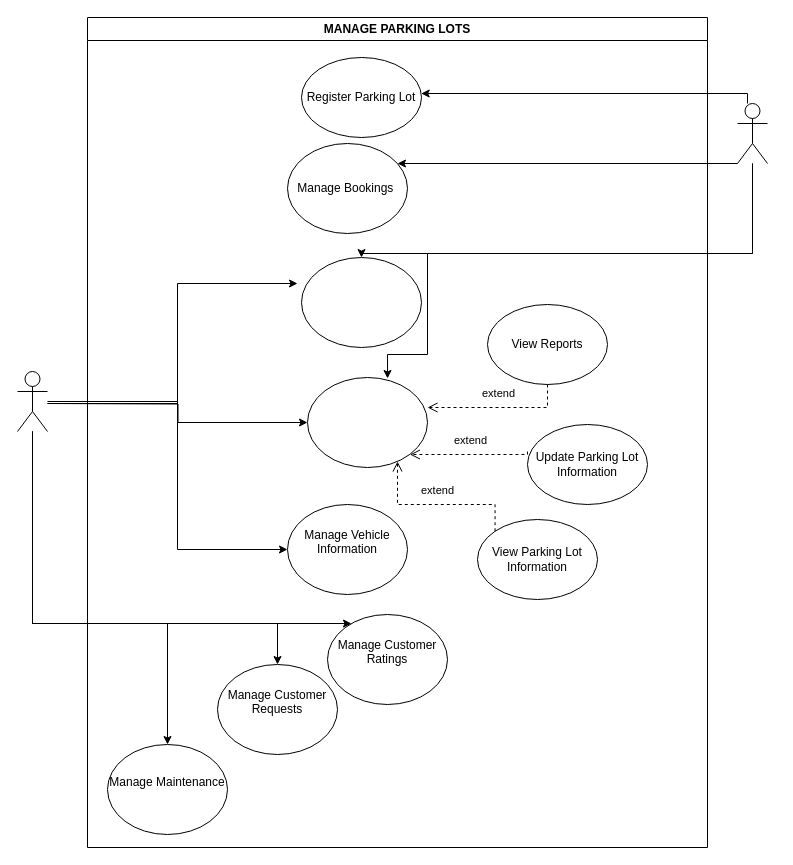
Some shapes in this 793 by 865 pixel diagram are drawn without their labels. Each missing label, with the centre of its shape:
Manage Employees: the point at 361,302
Manage Parking Lot: the point at 367,422
Manager: the point at 752,133
Staff: the point at 32,401
